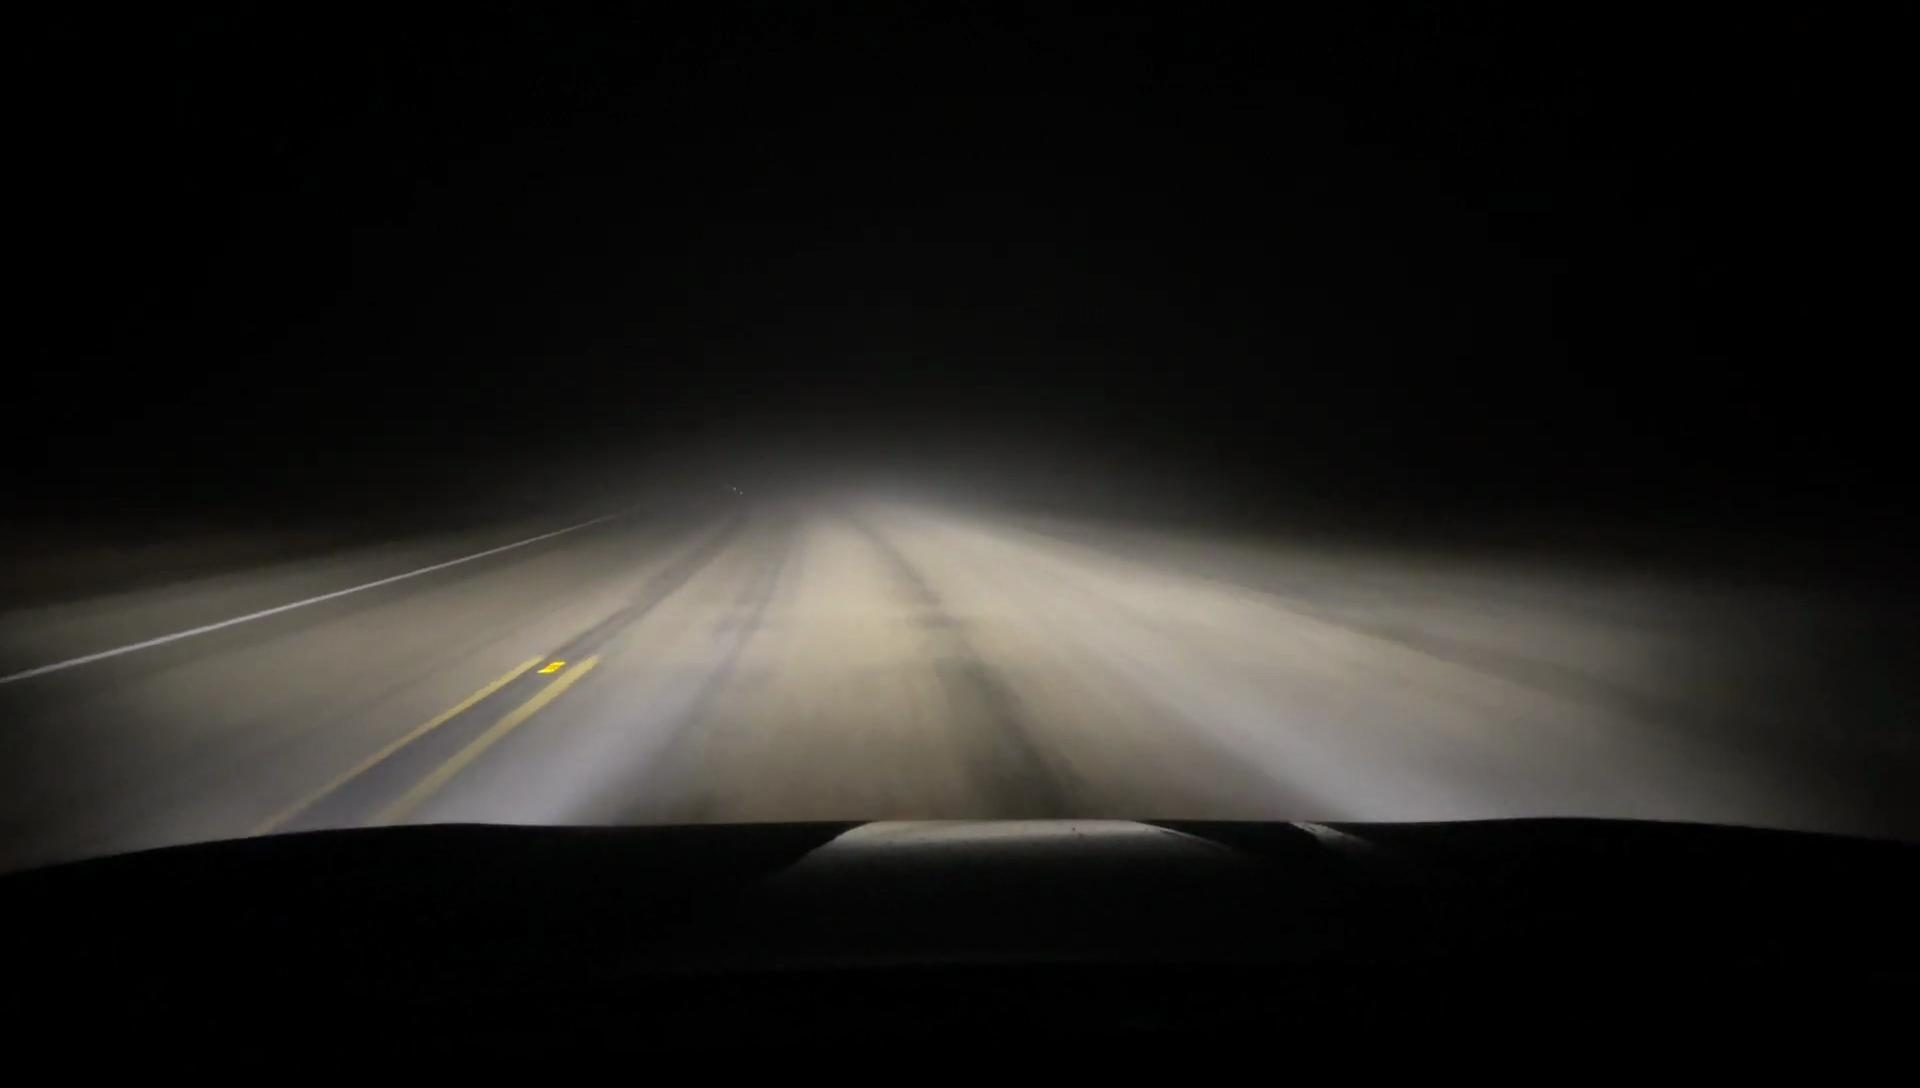road-lanes: (404, 472, 1309, 802)
